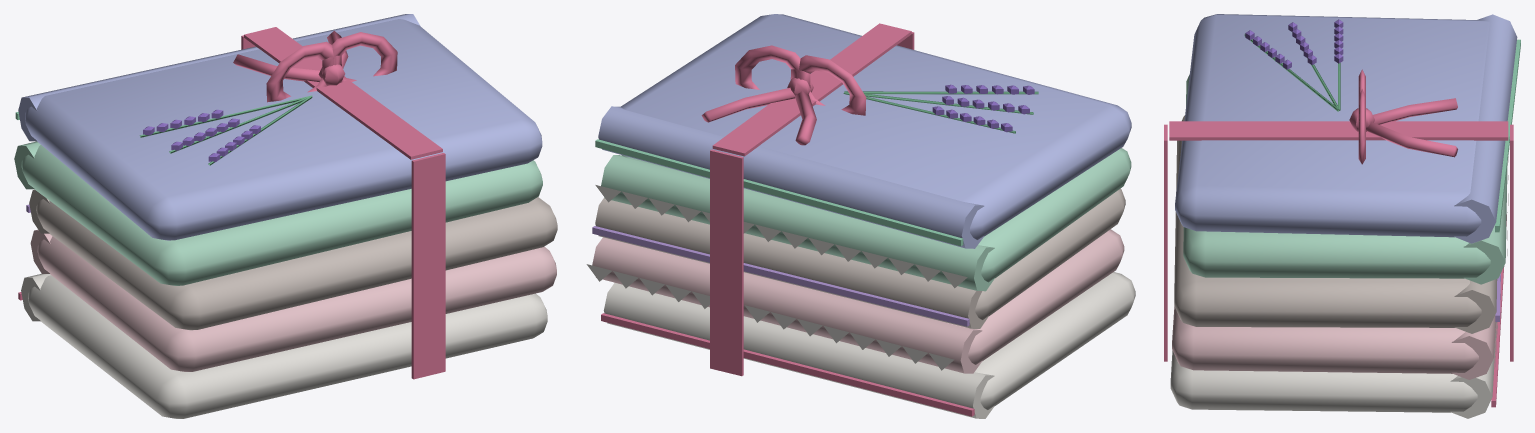
The model's file is linen_stack.glb.
3 views of the same model, side by side, from view 1: azimuth 30°, elevation 25°; view 2: azimuth 150°, elevation 25°; view 3: azimuth 270°, elevation 25° (orthographic).
Parts seen in each view (by area): view 1: linen_stack; view 2: linen_stack; view 3: linen_stack.
Boxes of the visible parts, <box> form: linen_stack: <box>14,14,557,418</box>; linen_stack: <box>586,14,1135,418</box>; linen_stack: <box>1164,14,1520,418</box>.
Size of what is drawn, in the model's own units: 0.4 by 0.25 by 0.3.
